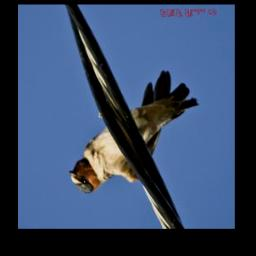Swallow: (67, 69, 199, 196)
